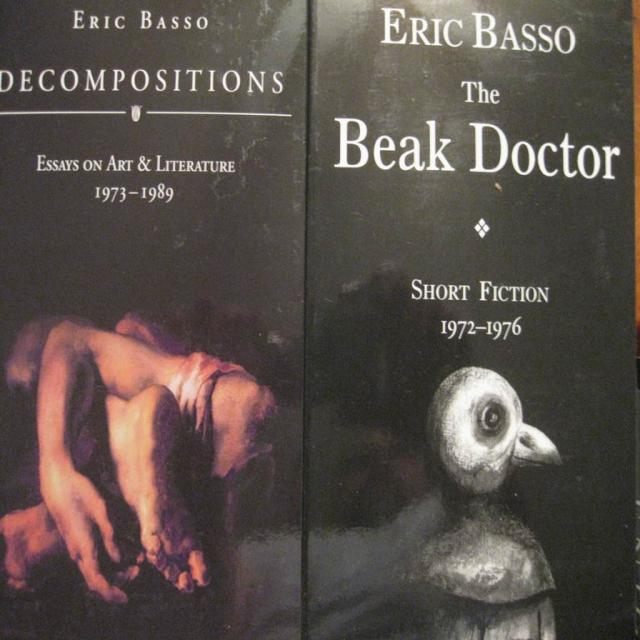Book: (0, 0, 640, 638), (0, 0, 311, 639)
